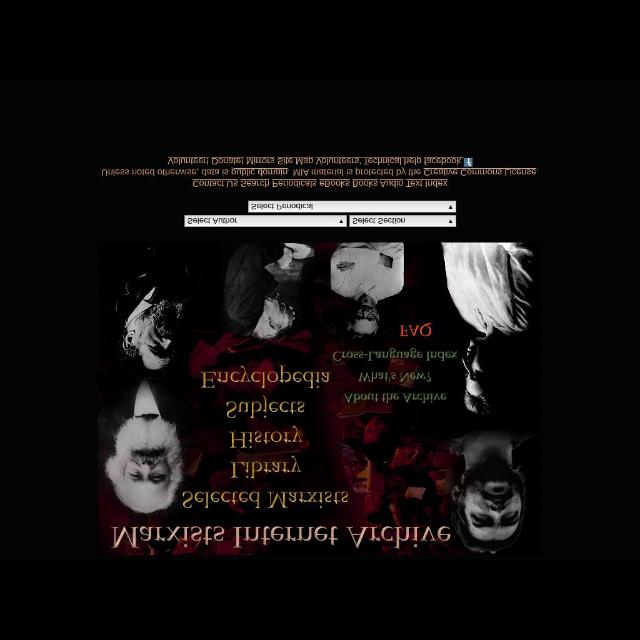icon: (448, 220, 452, 223), (339, 220, 343, 223), (449, 206, 453, 208)
image: (98, 243, 542, 555), (463, 157, 472, 167)
spinner: (248, 200, 456, 212), (185, 215, 348, 227), (349, 215, 456, 228)
text: (101, 167, 539, 177), (166, 157, 464, 166), (192, 178, 448, 188), (252, 203, 312, 209), (188, 218, 238, 225), (352, 218, 406, 224)
